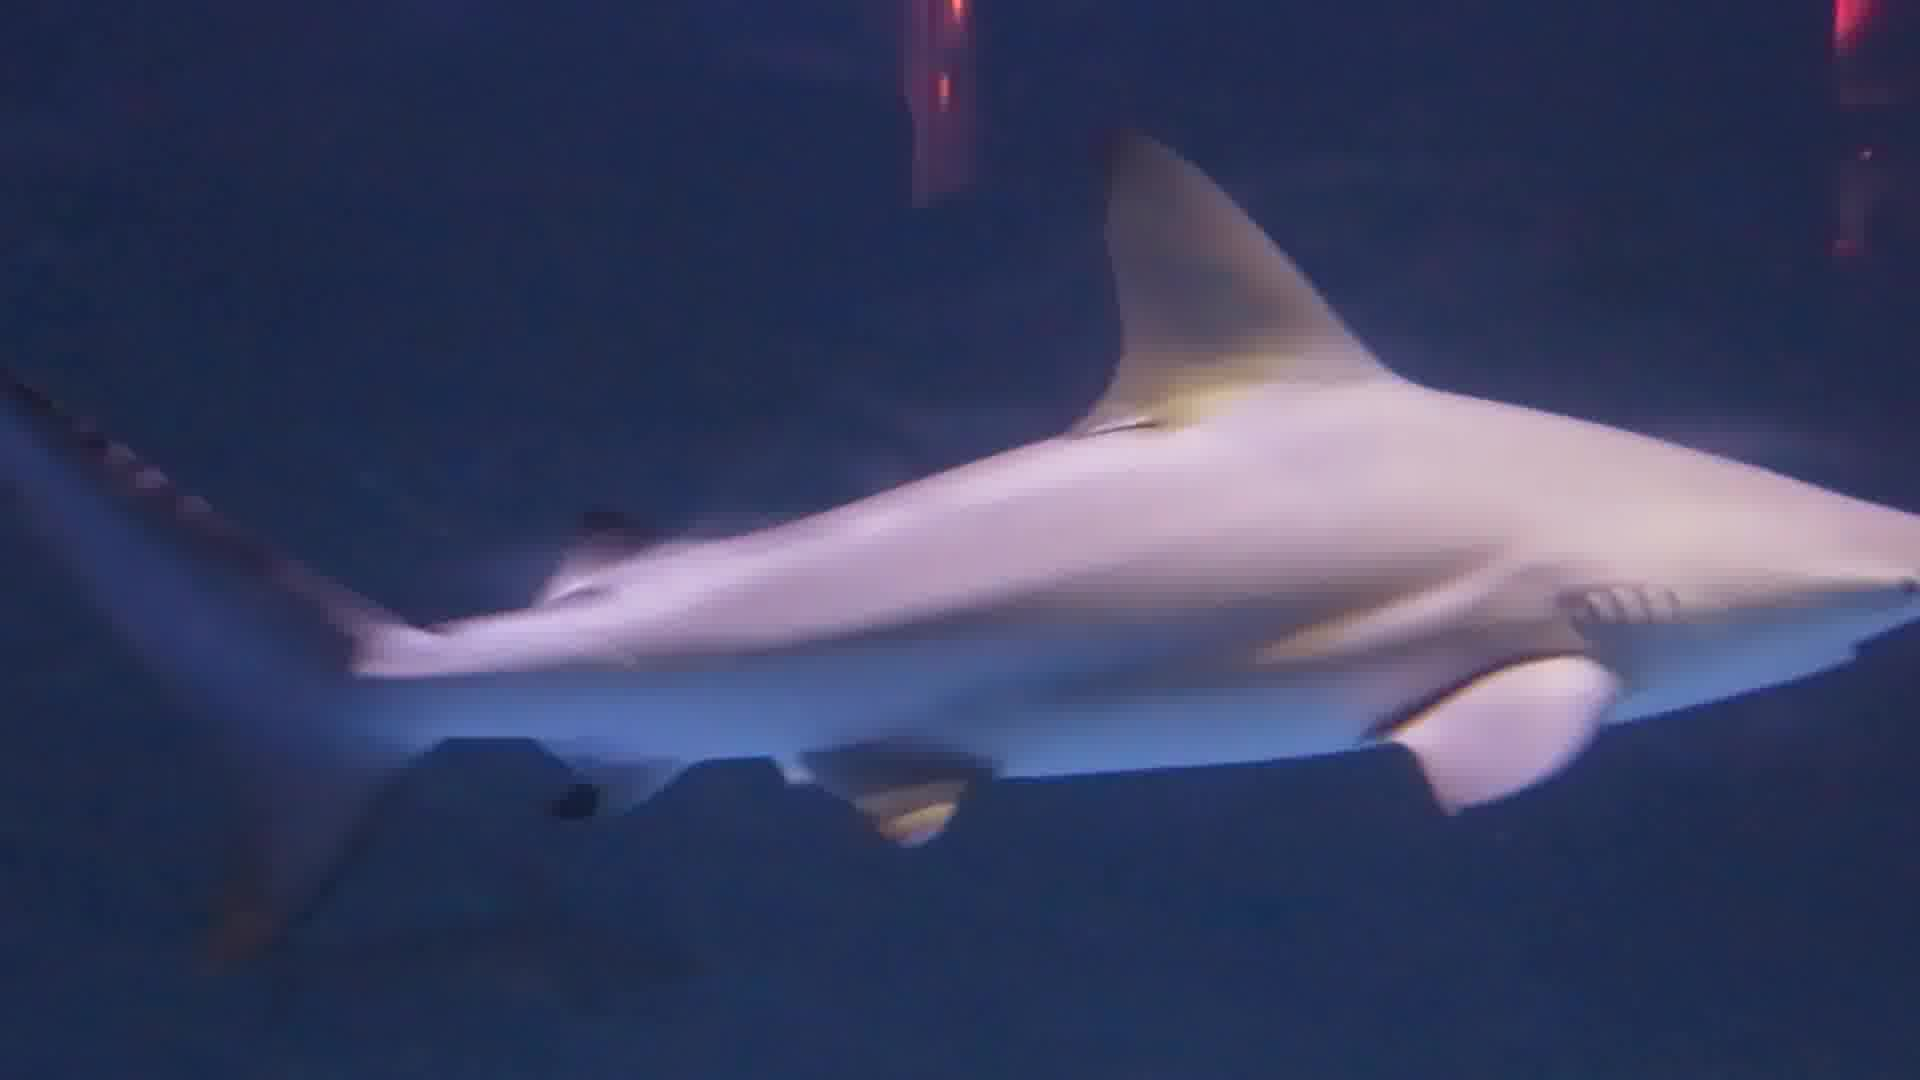Carcharhinus leucas: (55, 120, 1905, 928)
